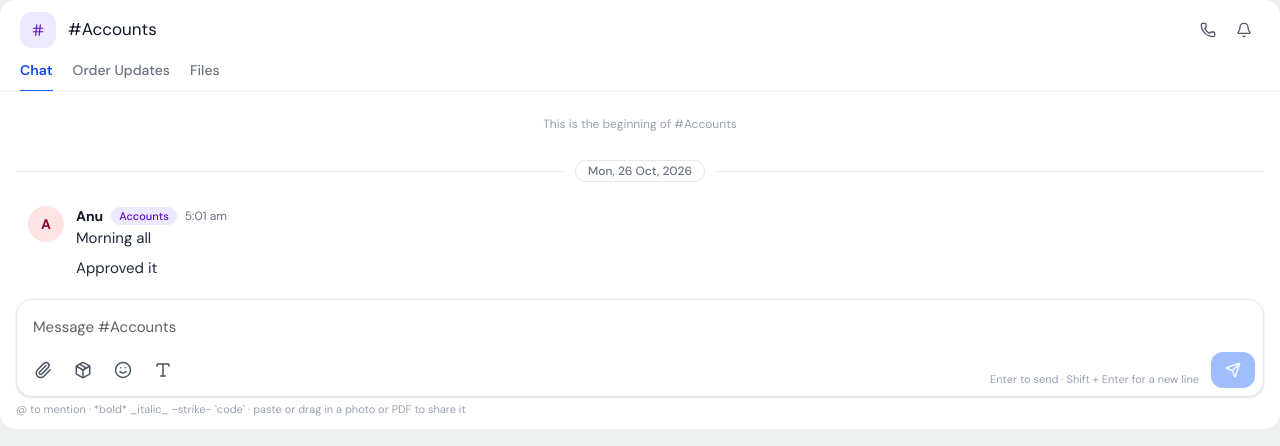
it: Chat shows people; Order updates shows the automatic messages, without a message box
The width and height of the screenshot is (1280, 446).
Expected: the text "Morning all" is shown, 76,228 -> 151,248
Expected: the text "New expense PR-0022" is not shown
Step 1. Click the tab "Order updates" → (121, 74), box 72,56 -> 170,92
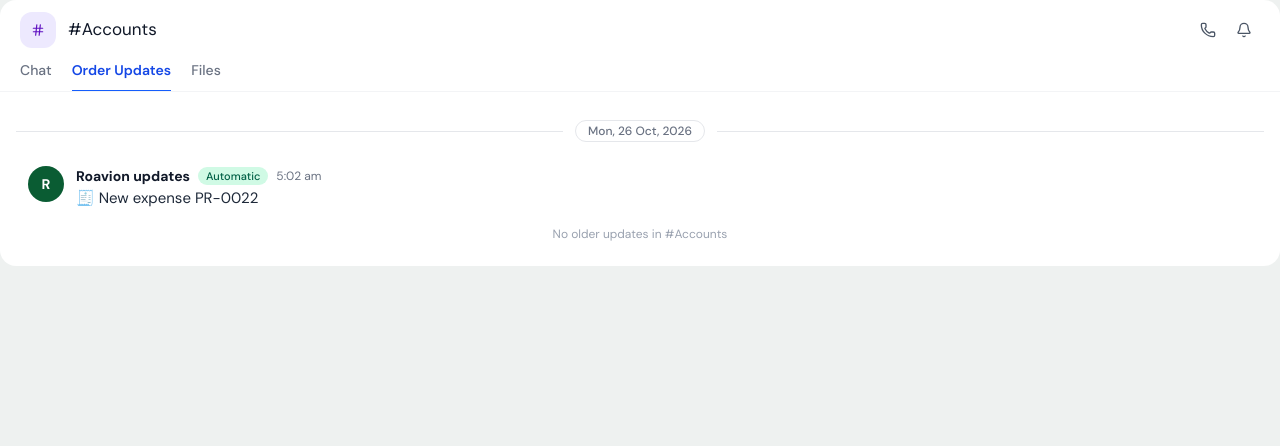
Result: the text "🧾 New expense PR-0022" is shown at 76,188 -> 258,208
Result: the text "Morning all" is gone
